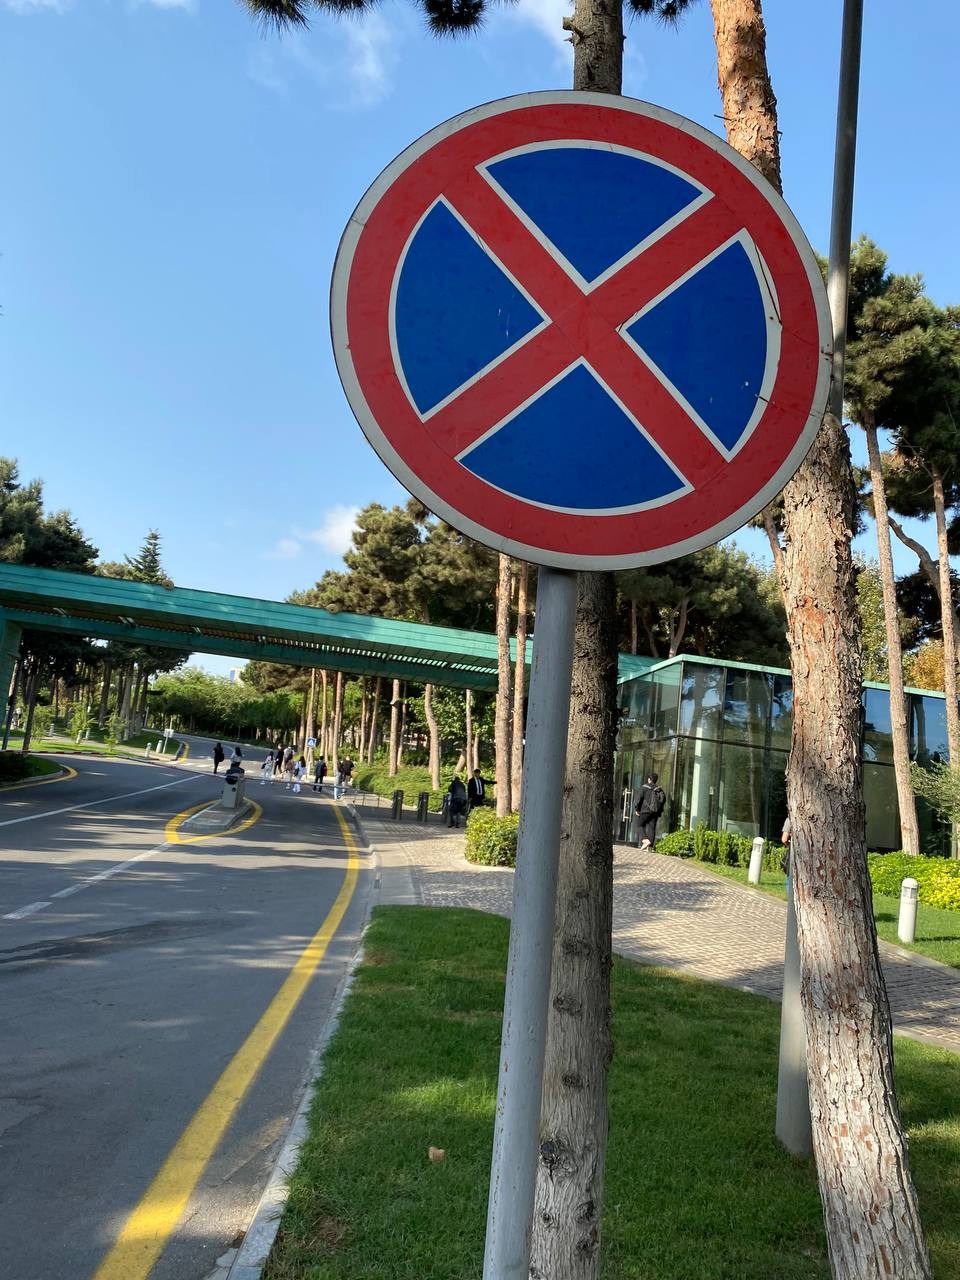No Parking: (327, 89, 836, 573)
